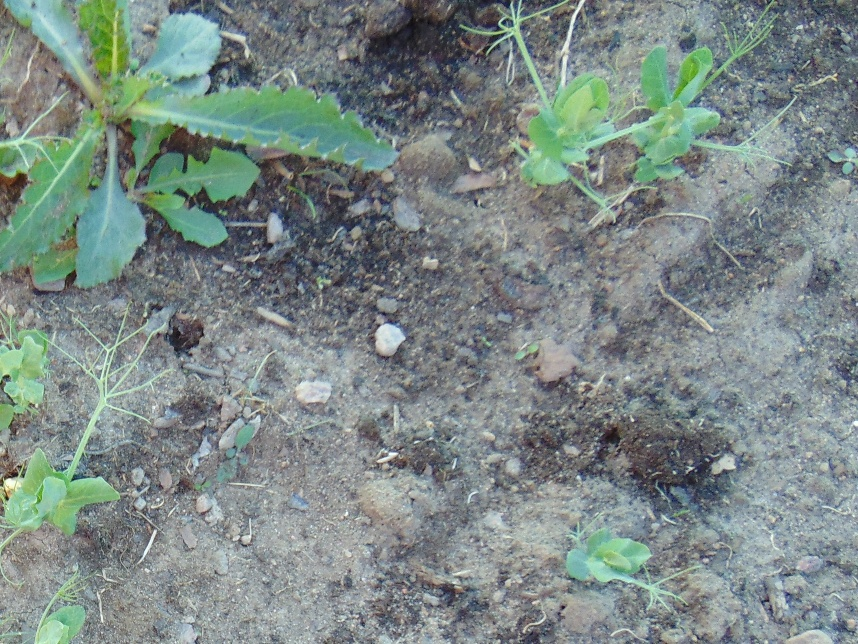crop: (491, 1, 776, 207), (1, 313, 141, 566), (561, 518, 689, 609), (1, 313, 54, 444), (29, 566, 97, 644), (1, 120, 39, 164)
weed: (2, 1, 388, 294), (102, 122, 260, 250), (228, 423, 250, 463)
